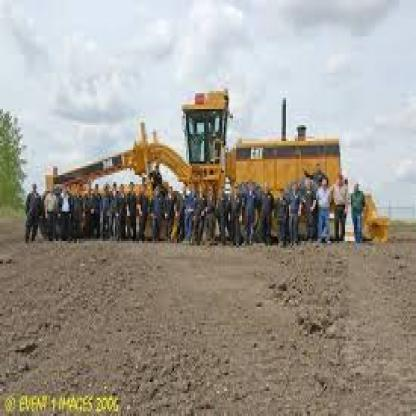bull_dozer/loader/grader: (44, 80, 408, 268)
